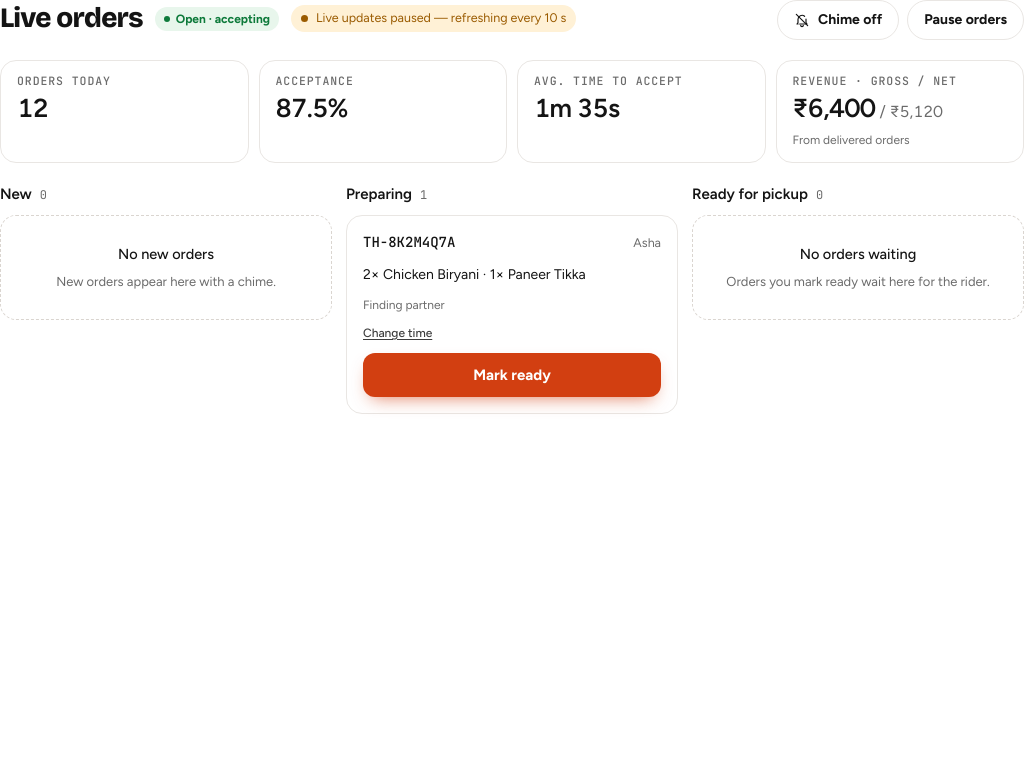
Scenario: OrdersBoard (board 20) › opens the order detail dialog from the card (GET /owner/orders/:id)
Click the button with aria-label "Order TH-8K2M4Q7A, view details" at (409, 242), box [363,232,455,252]
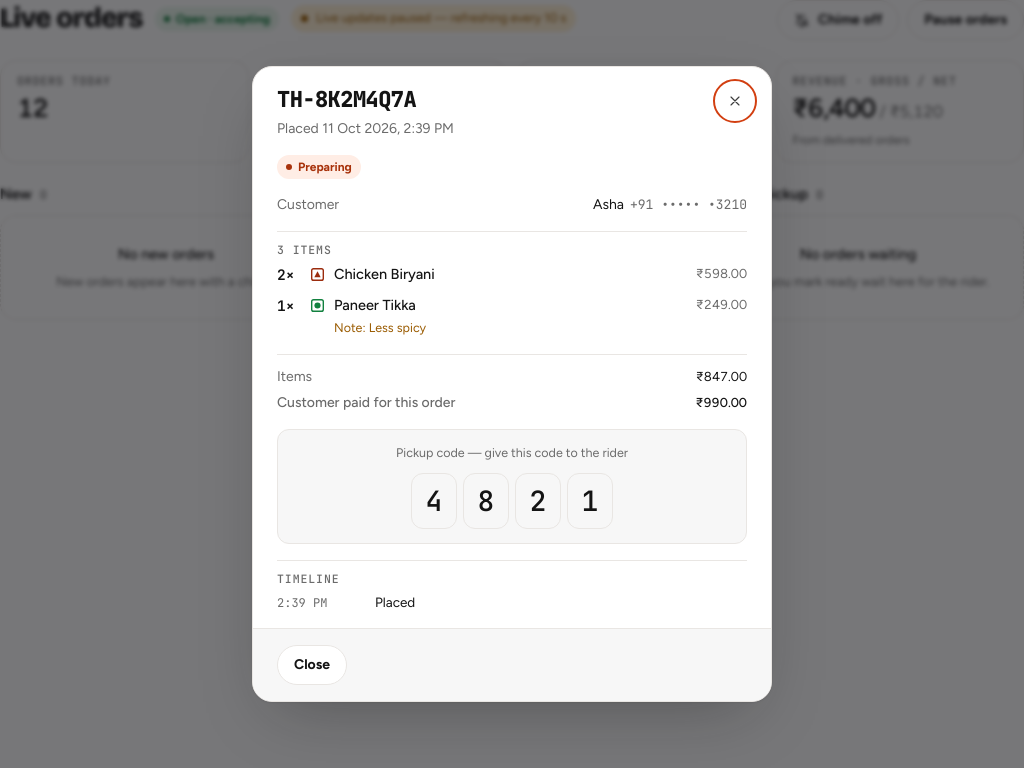
Expected: the text "Timeline" is shown, [277,570,340,586]
Expected: the text "Paneer Tikka" is shown, [334,296,416,314]
